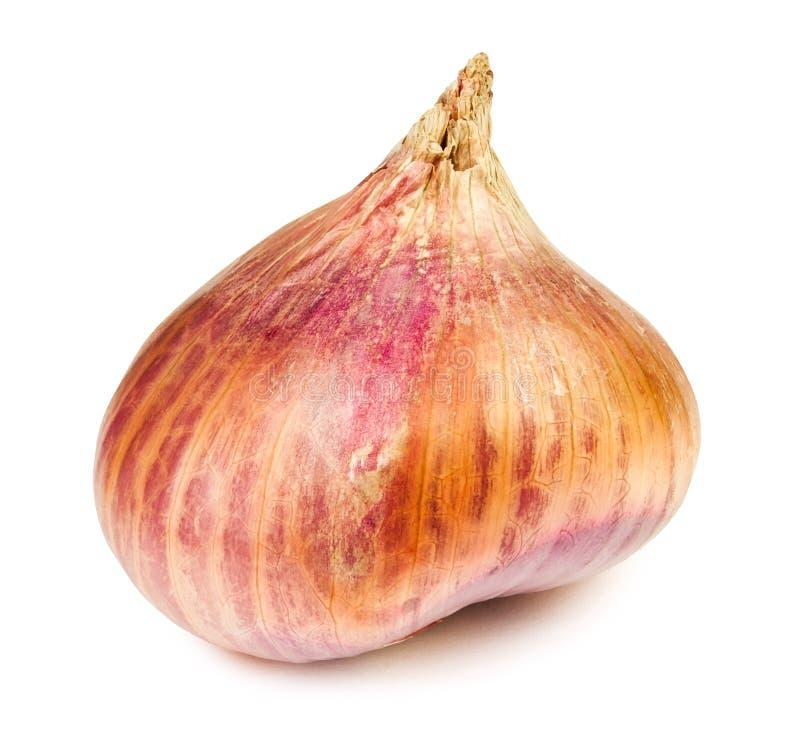Onion: (97, 55, 699, 659)
